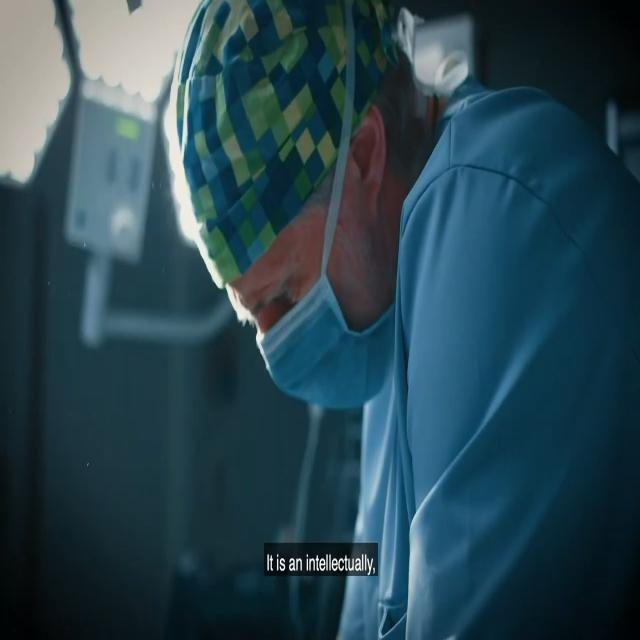Doctor: (135, 0, 640, 524)
